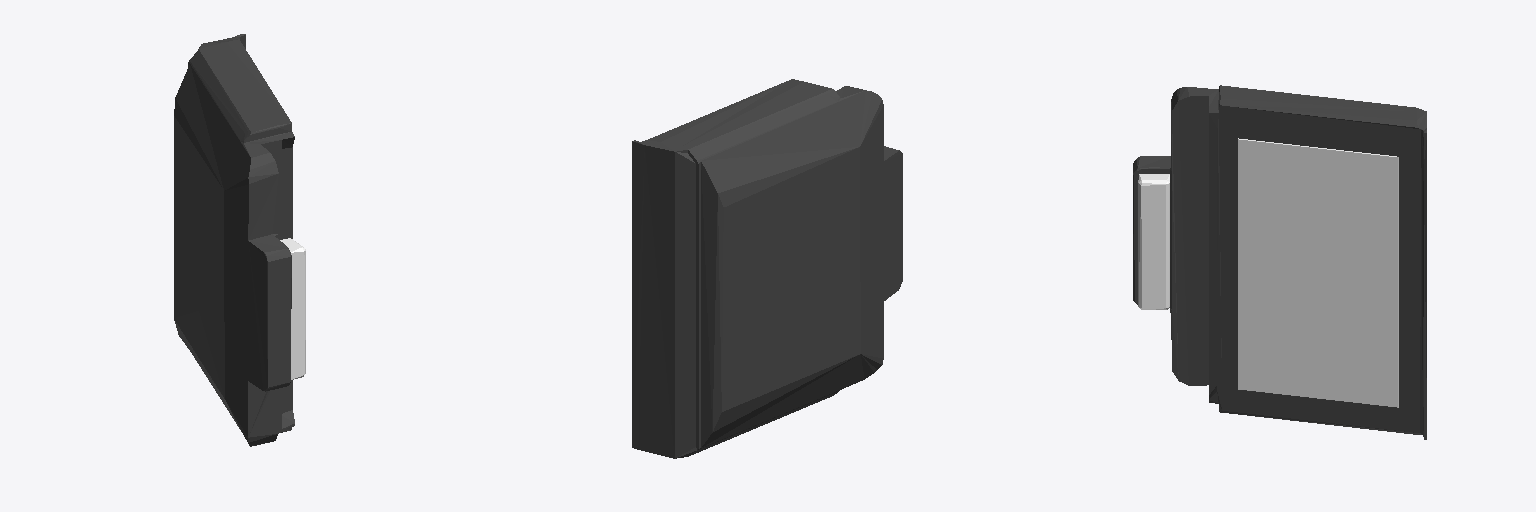
3 renders of one model, left to right at view 1: azimuth 30°, elevation 25°; view 2: azimuth 150°, elevation 25°; view 3: azimuth 270°, elevation 25°, orthographic.
Size of the model in its own units: 0.0804 by 0.1912 by 0.1654.
Materials: 3 (1 with a texture image).